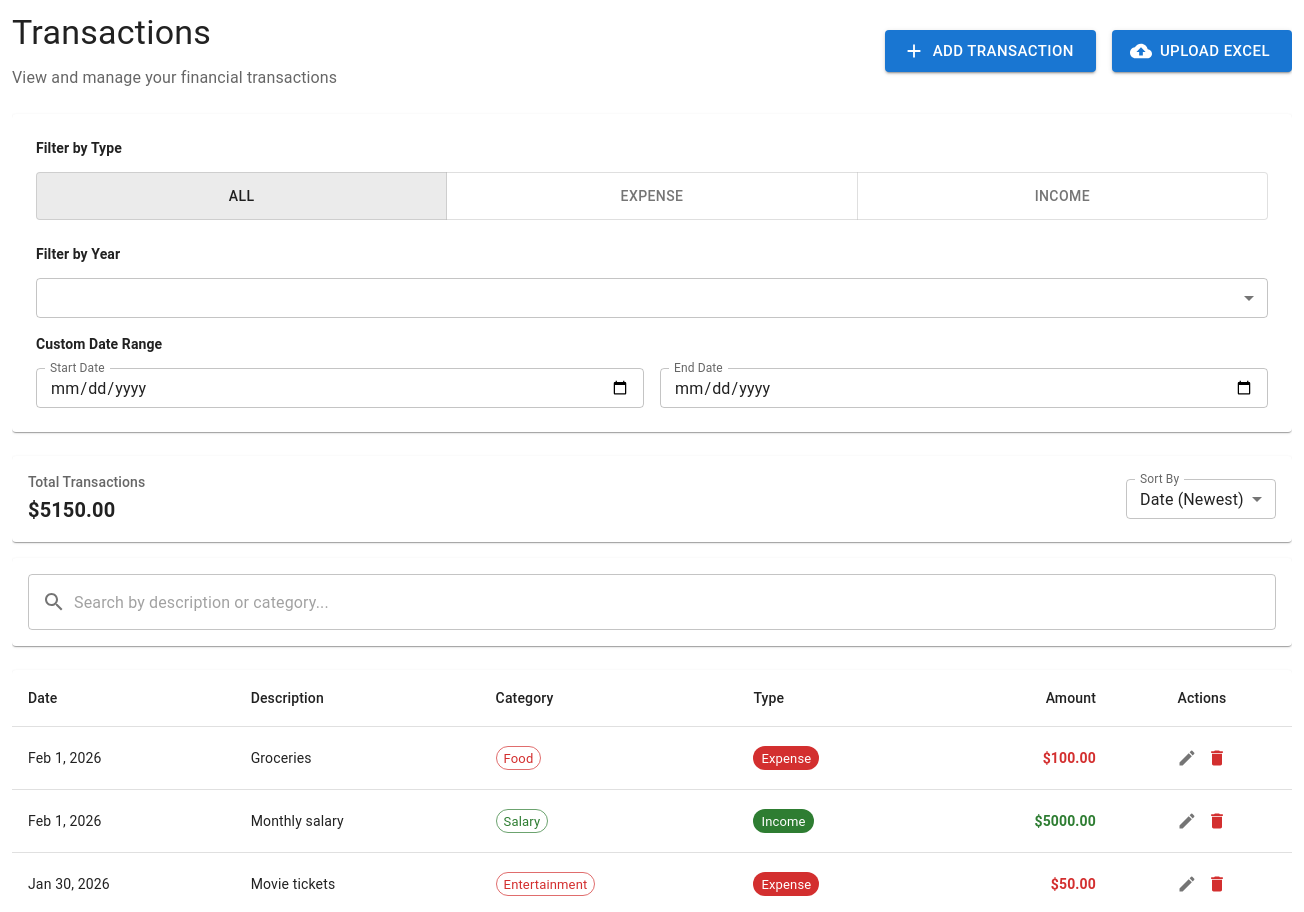
Test case: Transactions Component › filters transactions by search term
The width and height of the screenshot is (1304, 912).
Expected: the text "Groceries" is shown, [235,727,480,790]
Type "Movie" into the field with placeholder "Search by description or category..." at (675, 602), box [74,574,1276,630]
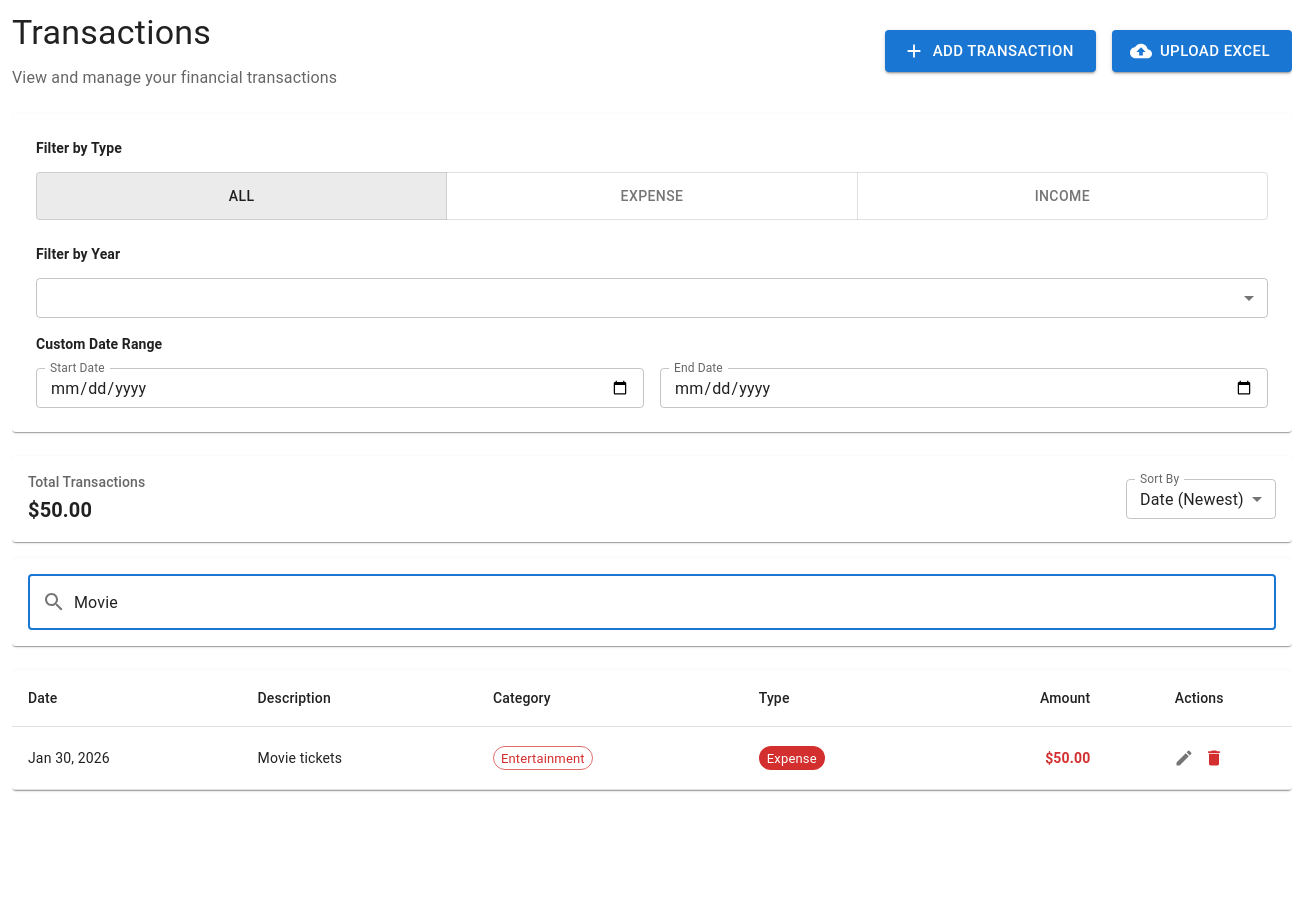
Expected: the text "Movie tickets" is shown, [242,727,477,790]
Expected: the text "Groceries" is gone
